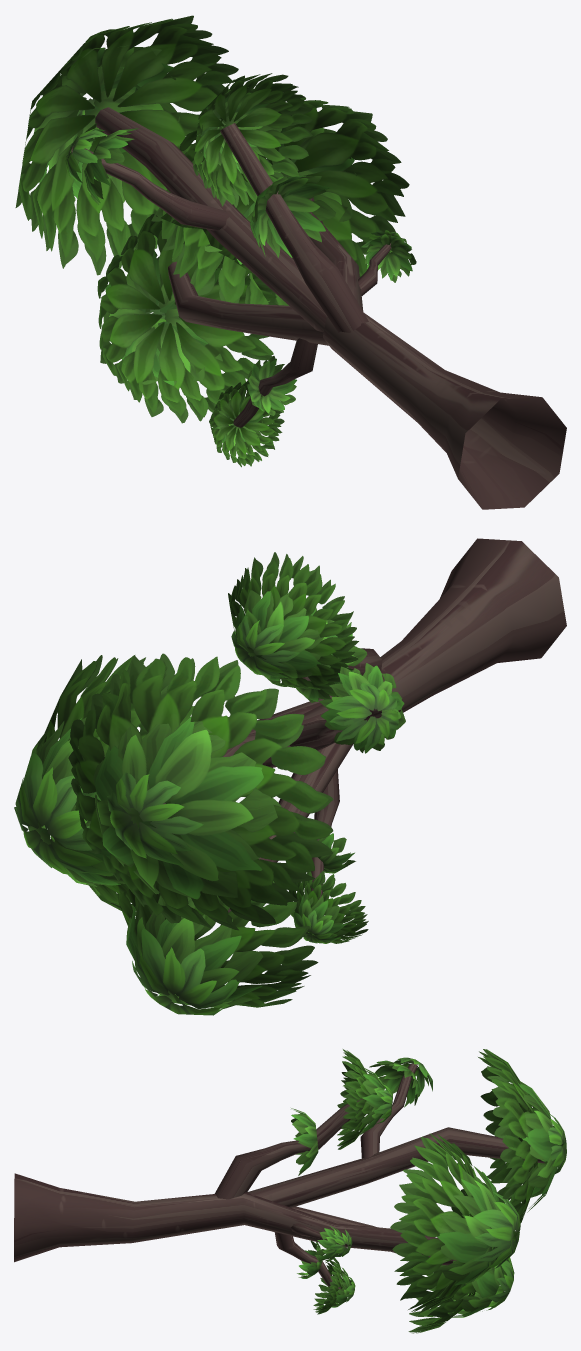
File: ASSETMODEL_ARBOLM_R.fbx
3 renders of one model, top to bottom at view 1: azimuth 30°, elevation 25°; view 2: azimuth 150°, elevation 25°; view 3: azimuth 270°, elevation 25°, orthographic. The views are drawn at different scales.
Parts seen in each view (by area): view 1: Arbol_M; view 2: Arbol_M; view 3: Arbol_M.
Boxes of the visible parts, x1=… form: Arbol_M: x1=15, y1=15, x2=566, y2=509; Arbol_M: x1=14, y1=538, x2=566, y2=1015; Arbol_M: x1=14, y1=1049, x2=566, y2=1333.
Bounding box in the file's own units: 367 × 398 × 724.
Materials: 1 (1 with a texture image).
